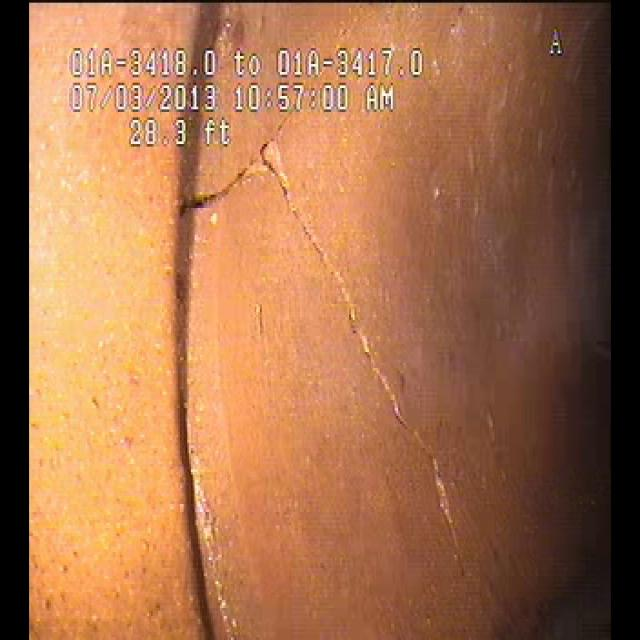Crack: (252, 140, 430, 492)
